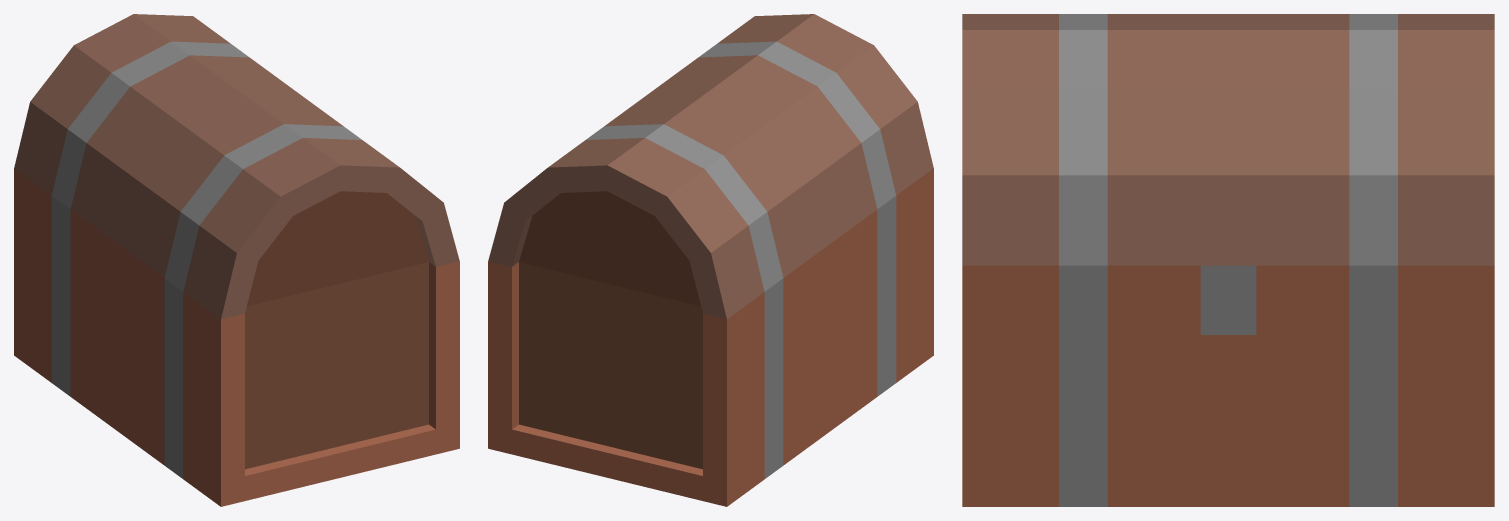
Rendered from Mdl_Chest.fbx.
3 views of the same model, side by side, from view 1: azimuth 30°, elevation 25°; view 2: azimuth 150°, elevation 25°; view 3: azimuth 270°, elevation 25° (orthographic). The views are drawn at different scales.
Parts seen in each view (by area): view 1: Cube; view 2: Cube; view 3: Cube.
Part boxes in pixels (x1,y1,x2,y2): Cube: (14,14,459,506); Cube: (488,14,933,506); Cube: (962,14,1494,506).
Size of the model in its own units: 200 by 250 by 300.
